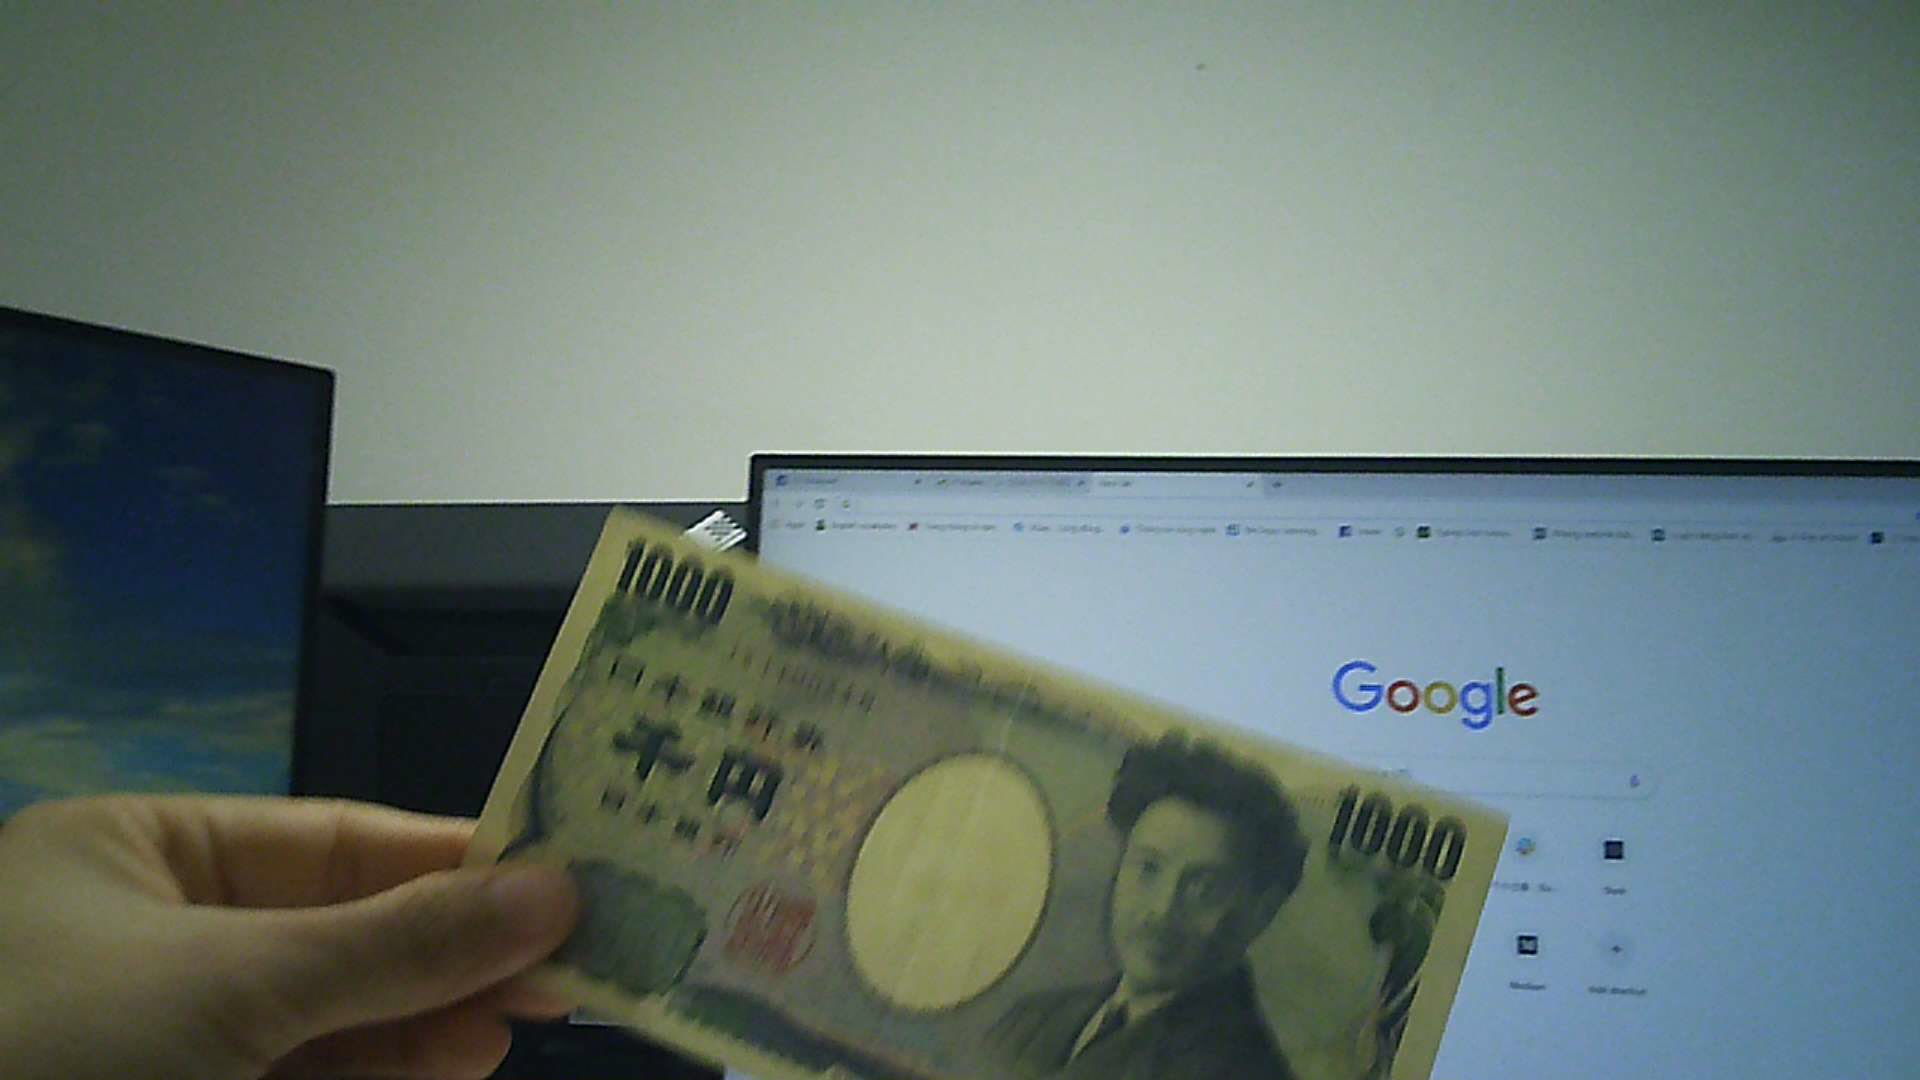1,000 Yen: (443, 471, 1513, 1079)
